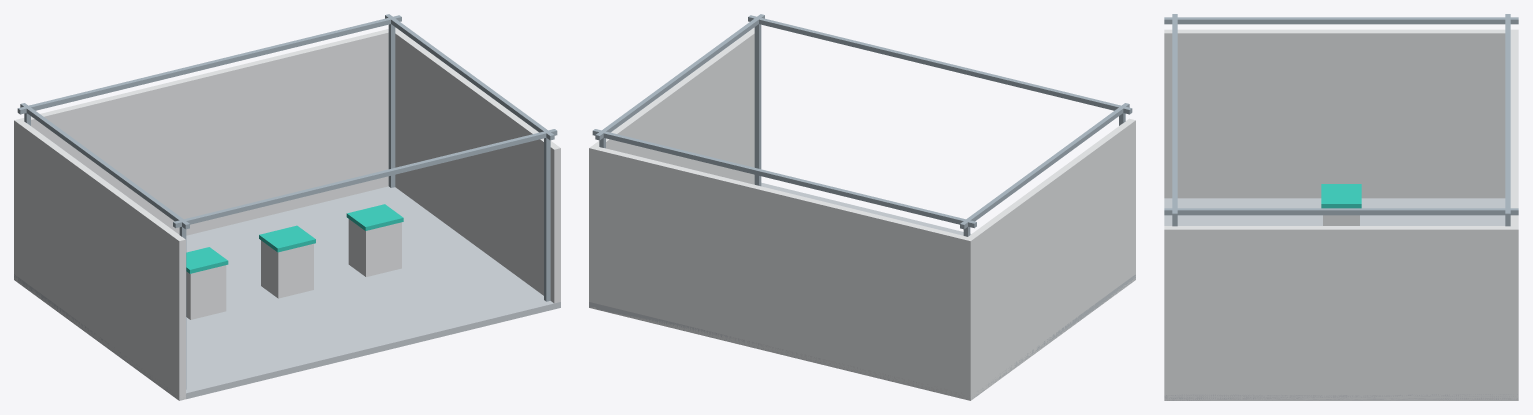
3 renders of one model, left to right at view 1: azimuth 30°, elevation 25°; view 2: azimuth 150°, elevation 25°; view 3: azimuth 270°, elevation 25°, orthographic. The views are drawn at different scales.
Parts seen in each view (by area): view 1: Exhibition Booth Concept; view 2: Exhibition Booth Concept; view 3: Exhibition Booth Concept.
Part boxes in pixels (x1,y1,x2,y2): Exhibition Booth Concept: [14, 14, 560, 400]; Exhibition Booth Concept: [589, 14, 1135, 400]; Exhibition Booth Concept: [1164, 14, 1518, 400].
Size of the model in its own units: 8 by 3.49 by 6.
